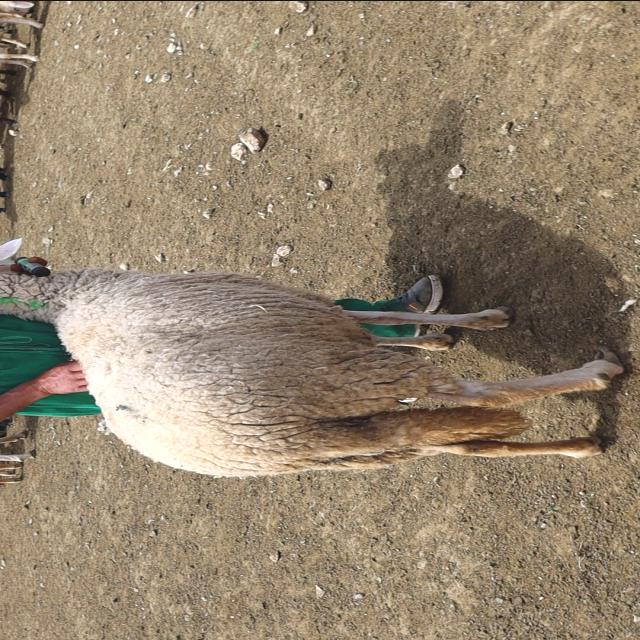Score_4: (0, 237, 623, 476)
